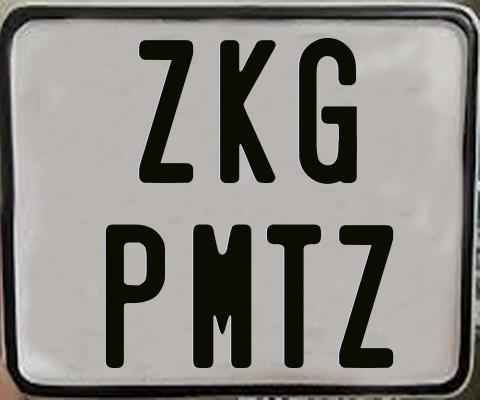G: (298, 37, 356, 185)
K: (219, 38, 276, 186)
M: (193, 222, 258, 369)
P: (103, 223, 166, 368)
T: (265, 222, 323, 367)
Z: (137, 40, 196, 184), (337, 222, 395, 365)
